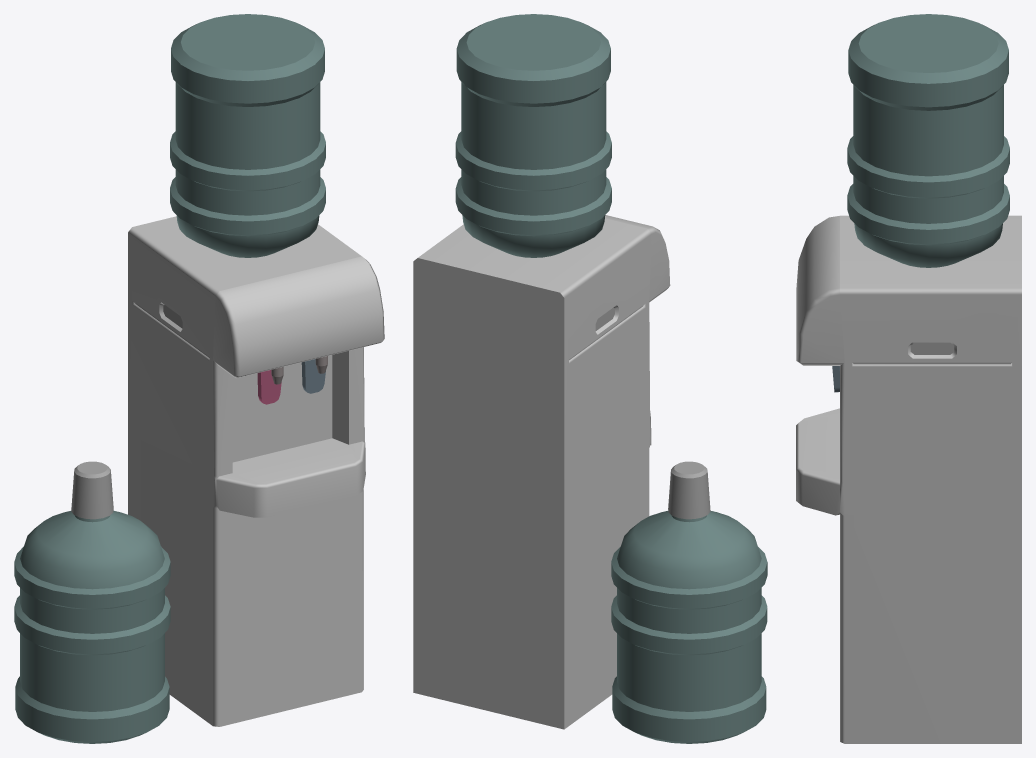
File: water_cooler.fbx
3 renders of one model, left to right at view 1: azimuth 30°, elevation 25°; view 2: azimuth 150°, elevation 25°; view 3: azimuth 270°, elevation 25°, orthographic. The views are drawn at different scales.
Visible parts, largest first — view 1: water_cooler, bottle; view 2: water_cooler, bottle; view 3: water_cooler.
Boxes of the visible parts, <box> form: water_cooler: <box>128,14,384,726</box>; bottle: <box>14,461,170,743</box>; water_cooler: <box>413,14,670,729</box>; bottle: <box>611,461,767,743</box>; water_cooler: <box>796,14,1021,743</box>.
Size of the model in its own units: 80.93 by 165 by 50.92.
